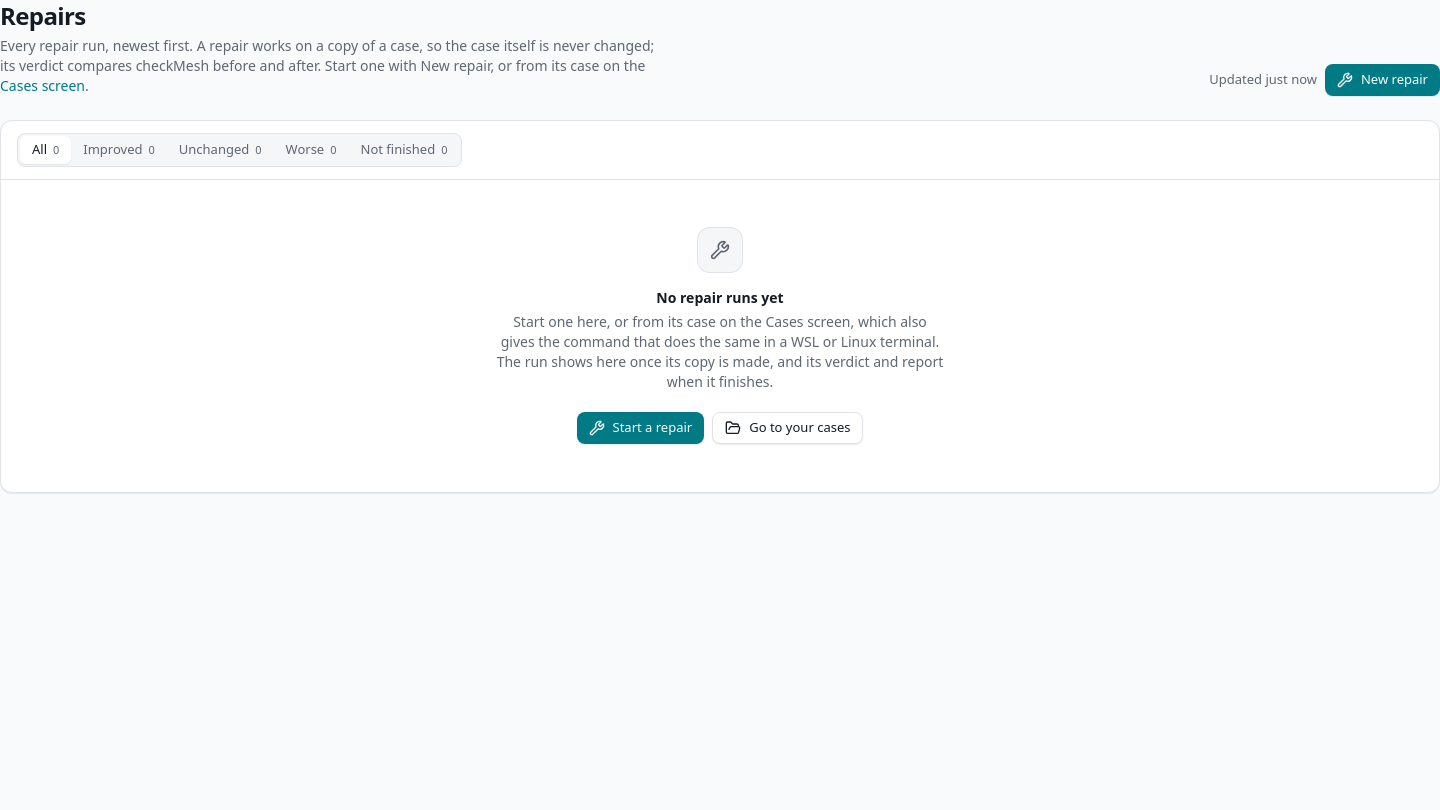
Test case: starting a repair from the Repairs screen › offers the first case the engine can repair, and says when one can't be repaired from here
Click the button "New repair" at (1382, 80), box x1=1325 y1=64 x2=1439 y2=96
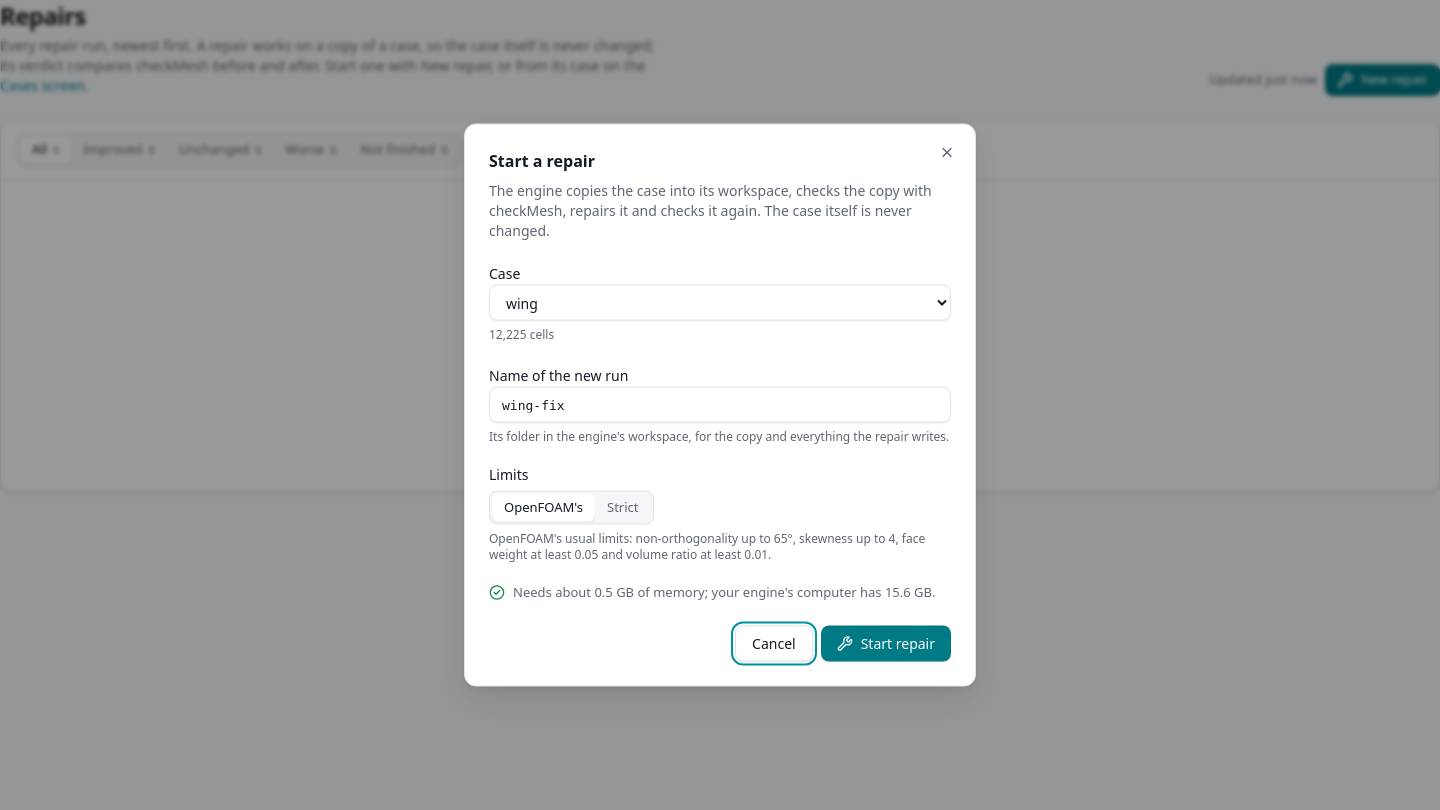
Check: the heading "Start a repair" is shown, box x1=489 y1=150 x2=595 y2=172
Check: the dropdown labelled "Case" shows "wing"
Select "my case" in the dropdown labelled "Case" at (720, 302), box x1=489 y1=284 x2=951 y2=320
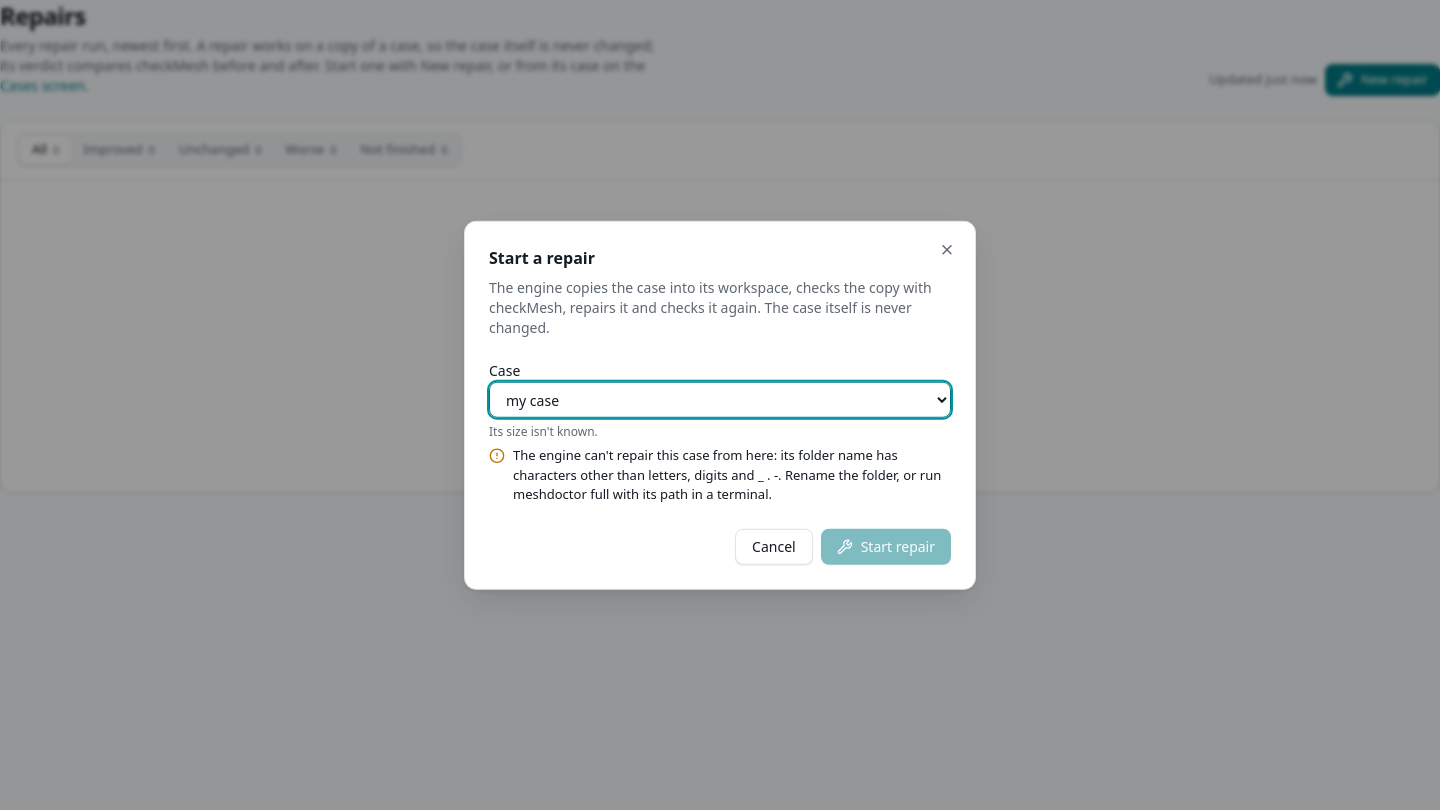
Check: the dialog shows "The engine can't repair this case from here", box x1=513 y1=446 x2=941 y2=503
Check: the label "Name of the new run" is gone
Check: the button "Start repair" is disabled, box x1=821 y1=528 x2=951 y2=564
Select "wing" in the dropdown labelled "Case" at (720, 400), box x1=489 y1=382 x2=951 y2=418
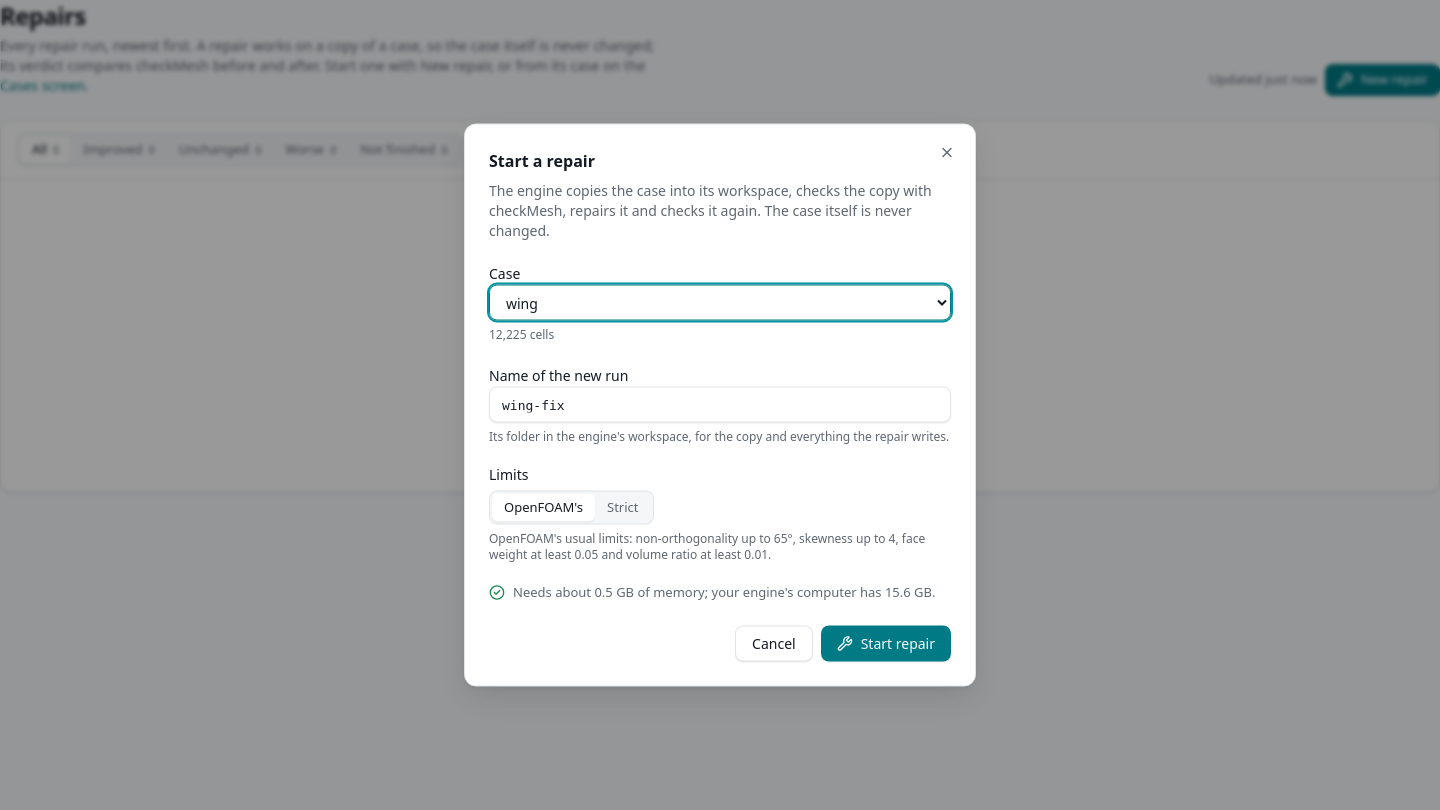
Check: the field labelled "Name of the new run" holds "wing-fix", box x1=489 y1=386 x2=951 y2=422
